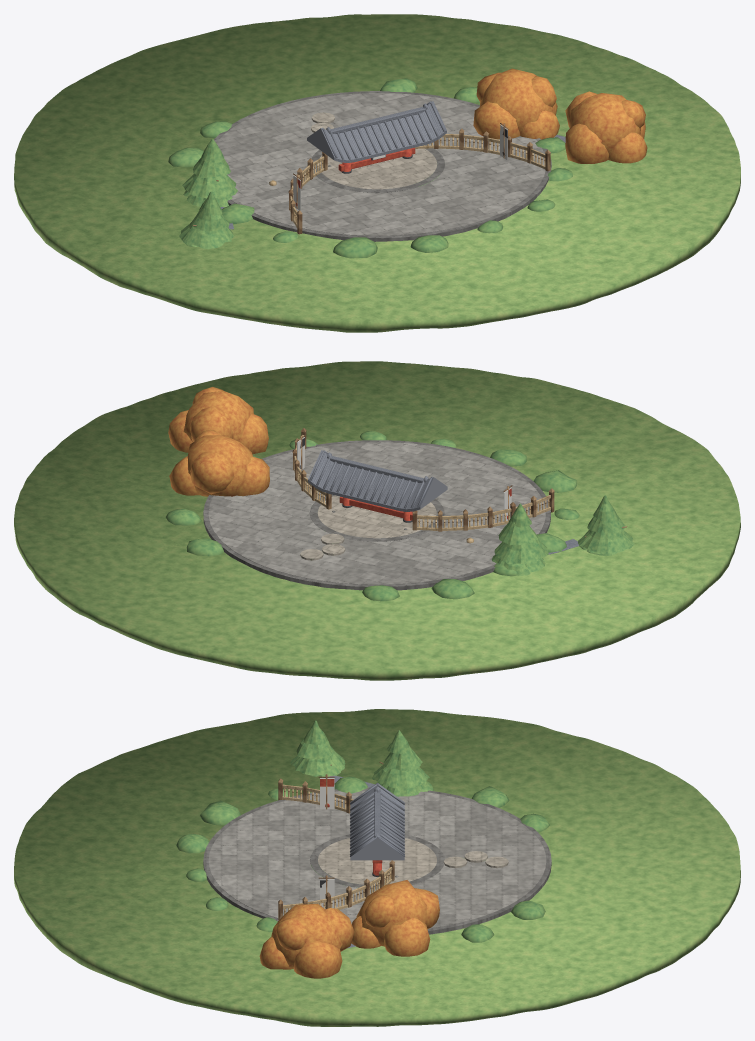
File: stage_parts.fbx
3 renders of one model, top to bottom at view 1: azimuth 30°, elevation 25°; view 2: azimuth 150°, elevation 25°; view 3: azimuth 270°, elevation 25°, orthographic.
Visible parts, largest first — view 1: stage_ground_overdare, stage_trees_overdare, stage_gate_overdare, stage_fence_overdare, stage_props_overdare; view 2: stage_ground_overdare, stage_trees_overdare, stage_gate_overdare, stage_fence_overdare; view 3: stage_ground_overdare, stage_trees_overdare, stage_gate_overdare, stage_fence_overdare, stage_props_overdare.
Boxes of the visible parts, x1,y1,x2,y2 form: stage_ground_overdare: (14,14,740,332); stage_trees_overdare: (179,68,647,249); stage_gate_overdare: (307,101,446,173); stage_fence_overdare: (220,128,565,234); stage_props_overdare: (269,123,508,210); stage_ground_overdare: (14,361,740,680); stage_trees_overdare: (168,387,634,575); stage_gate_overdare: (308,450,447,522); stage_fence_overdare: (292,428,579,554); stage_ground_overdare: (14,709,740,1026); stage_trees_overdare: (259,720,439,978); stage_gate_overdare: (350,783,404,876); stage_fence_overdare: (278,775,394,948); stage_props_overdare: (318,774,398,908).
Bounding box in the file's own units: 2803 × 507 × 2797.
Materials: 5 (5 with a texture image).
